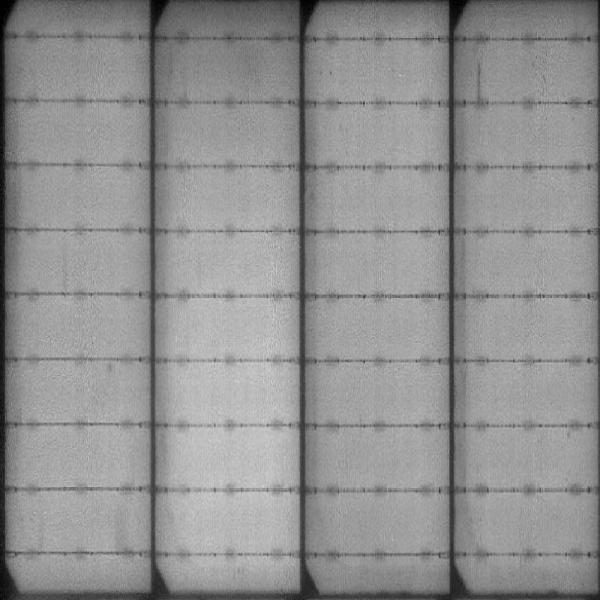scratch: (472, 58, 487, 111)
